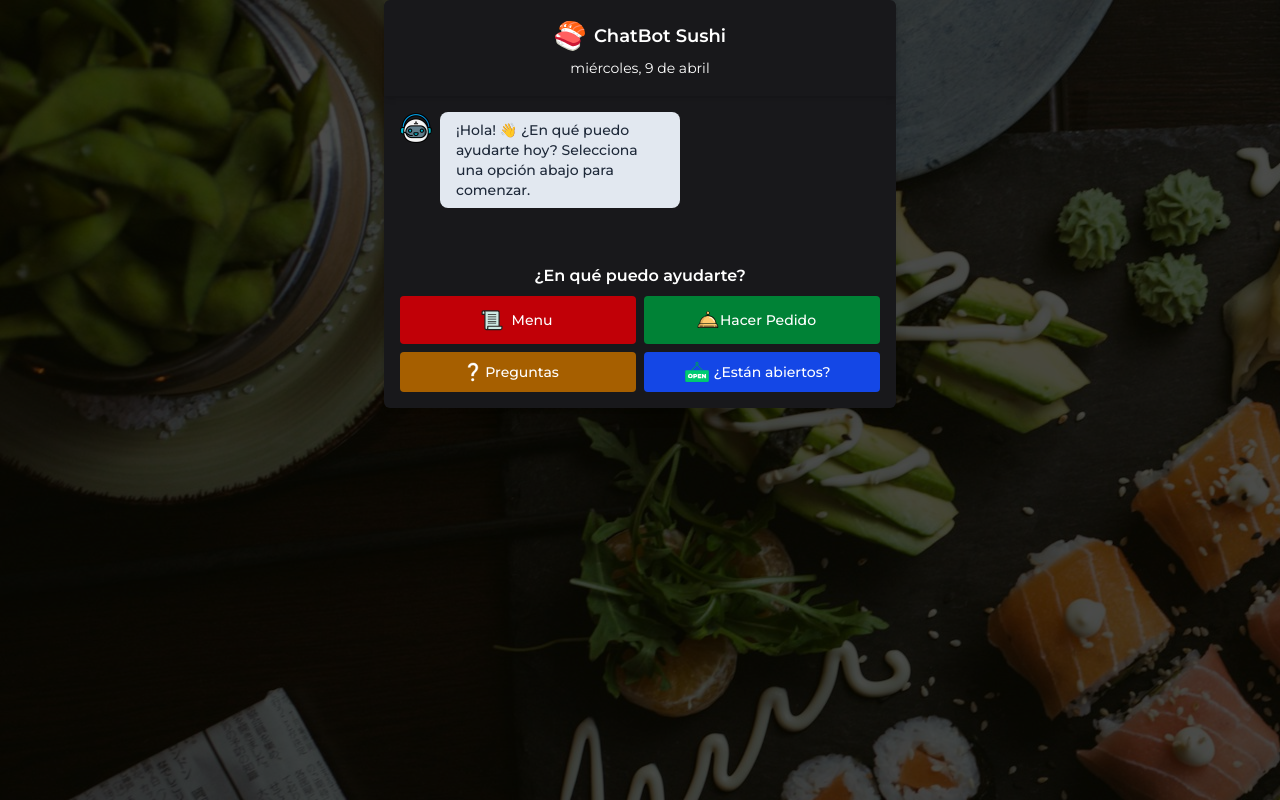
Test: ChatBot Component › handles "¿Están abiertos?" action
Click the button "¿Están abiertos?" at (762, 372), box x1=644 y1=352 x2=880 y2=392
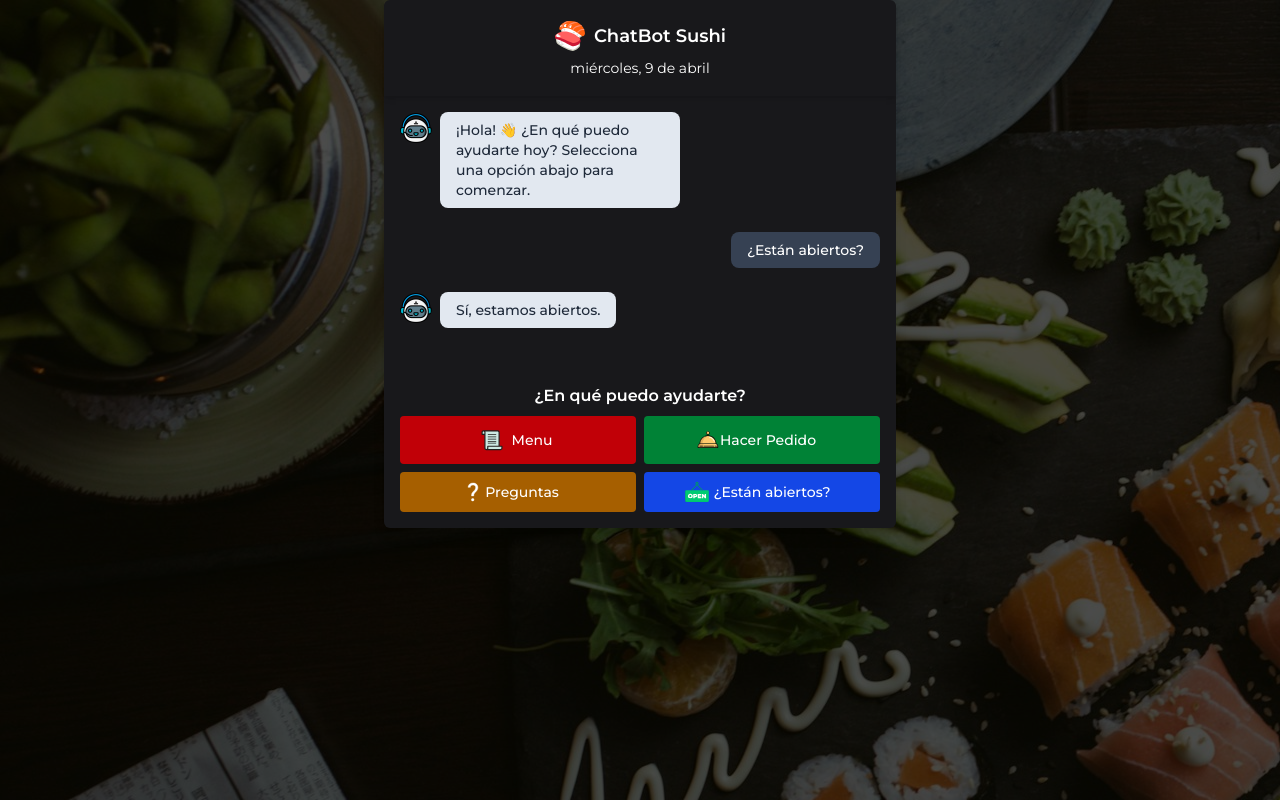
Expected: the text "Sí, estamos abiertos." is shown, x1=440 y1=292 x2=616 y2=328
